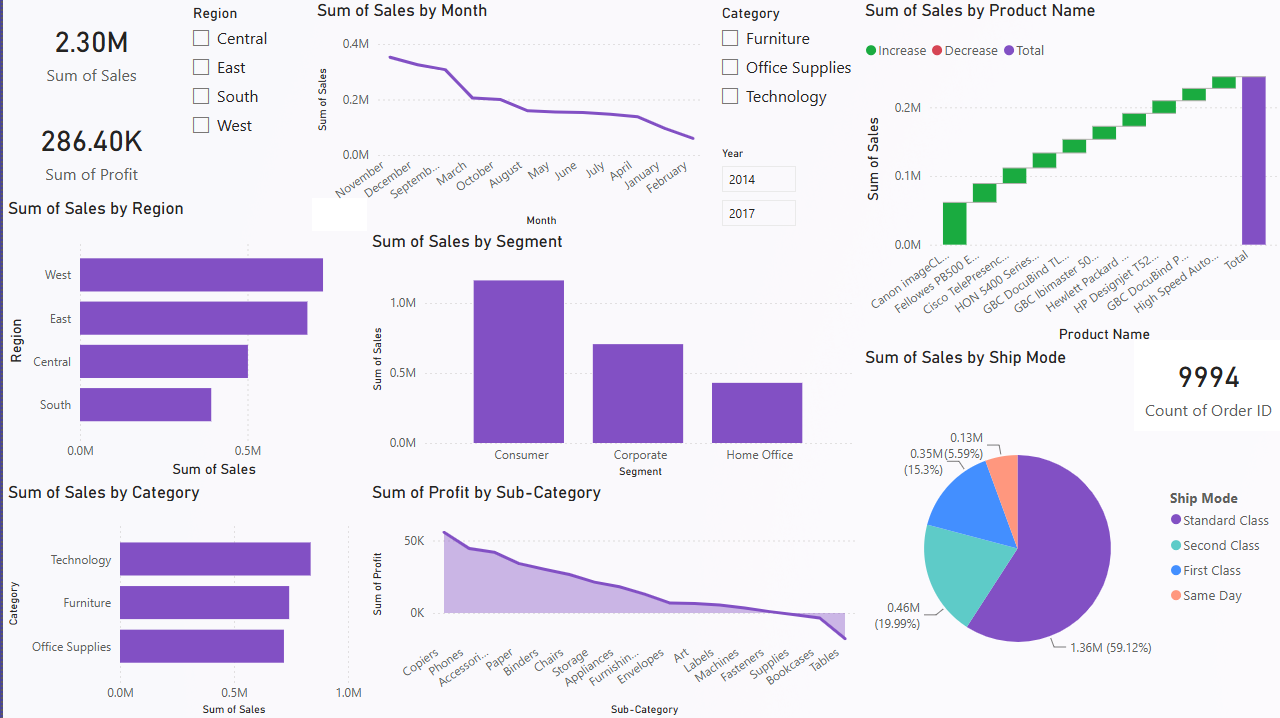

What the dashboard file says about the page in this screenshot:
{"tool":"powerbi","page":{"name":"Page 1","canvas":[1280,720],"ordinal":0},"visuals":[{"type":"clusteredBarChart","fields":{"Category":["Cleaned_Superstore.Region"],"Y":["Sum(Cleaned_Superstore.Sales)"]},"box":[0,198.4,363.8,284],"z":0},{"type":"barChart","fields":{"Category":["Cleaned_Superstore.Category"],"Y":["Sum(Cleaned_Superstore.Sales)"]},"box":[0,482.4,363.8,237.3],"z":1000},{"type":"waterfallChart","fields":{"Category":["Cleaned_Superstore.Product Name"],"Y":["Sum(Cleaned_Superstore.Sales)"]},"box":[856.9,0,423.1,347.2],"z":2000},{"type":"lineChart","fields":{"Category":["Cleaned_Superstore.Month"],"Y":["Sum(Cleaned_Superstore.Sales)"]},"box":[309.3,0,396.8,231.5],"z":3000},{"type":"stackedAreaChart","fields":{"Category":["Cleaned_Superstore.Sub-Category"],"Y":["Sum(Cleaned_Superstore.Profit)"]},"box":[363.8,482.4,493.1,237.3],"z":4000},{"type":"pieChart","fields":{"Category":["Cleaned_Superstore.Ship Mode"],"Y":["Sum(Cleaned_Superstore.Sales)"]},"box":[856.9,347.2,423.1,372.5],"z":5000},{"type":"clusteredColumnChart","fields":{"Y":["Sum(Cleaned_Superstore.Sales)"],"Category":["Cleaned_Superstore.Segment"]},"box":[363.8,231.5,493.1,250.9],"z":6000},{"type":"card","fields":{"Values":["Sum(Cleaned_Superstore.Sales)"]},"box":[0,0,177,100.2],"z":7000},{"type":"card","fields":{"Values":["Sum(Cleaned_Superstore.Profit)"]},"box":[0,100.2,177,98.2],"z":8000},{"type":"card","fields":{"Values":["CountNonNull(Cleaned_Superstore.Order ID)"]},"box":[1131.2,340.4,148.8,90.5],"z":9000},{"type":"slicer","fields":{"Values":["Cleaned_Superstore.Category"]},"box":[706.1,0,150.8,142],"z":10000},{"type":"slicer","fields":{"Values":["Cleaned_Superstore.Region"]},"box":[177,0,132.3,198.4],"z":11000},{"type":"slicer","fields":{"Values":["Cleaned_Superstore.Year"]},"box":[706.1,142,150.8,89.5],"z":12000}]}

Visuals, with their boxes in screenshot pixels (x1, y1, x2, y2), scaled from the page's 1280x720 canvas onto the 1280x718 screenshot:
clusteredBarChart - Cleaned_Superstore.Region x Sum(Cleaned_Superstore.Sales): [left=0, top=198, right=364, bottom=481]
barChart - Cleaned_Superstore.Category x Sum(Cleaned_Superstore.Sales): [left=0, top=481, right=364, bottom=717]
waterfallChart - Cleaned_Superstore.Product Name x Sum(Cleaned_Superstore.Sales): [left=857, top=0, right=1279, bottom=346]
lineChart - Cleaned_Superstore.Month x Sum(Cleaned_Superstore.Sales): [left=309, top=0, right=706, bottom=231]
stackedAreaChart - Cleaned_Superstore.Sub-Category x Sum(Cleaned_Superstore.Profit): [left=364, top=481, right=857, bottom=717]
pieChart - Cleaned_Superstore.Ship Mode x Sum(Cleaned_Superstore.Sales): [left=857, top=346, right=1279, bottom=717]
clusteredColumnChart - Sum(Cleaned_Superstore.Sales) x Cleaned_Superstore.Segment: [left=364, top=231, right=857, bottom=481]
card - Sum(Cleaned_Superstore.Sales): [left=0, top=0, right=177, bottom=100]
card - Sum(Cleaned_Superstore.Profit): [left=0, top=100, right=177, bottom=198]
card - CountNonNull(Cleaned_Superstore.Order ID): [left=1131, top=339, right=1279, bottom=430]
slicer - Cleaned_Superstore.Category: [left=706, top=0, right=857, bottom=142]
slicer - Cleaned_Superstore.Region: [left=177, top=0, right=309, bottom=198]
slicer - Cleaned_Superstore.Year: [left=706, top=142, right=857, bottom=231]
